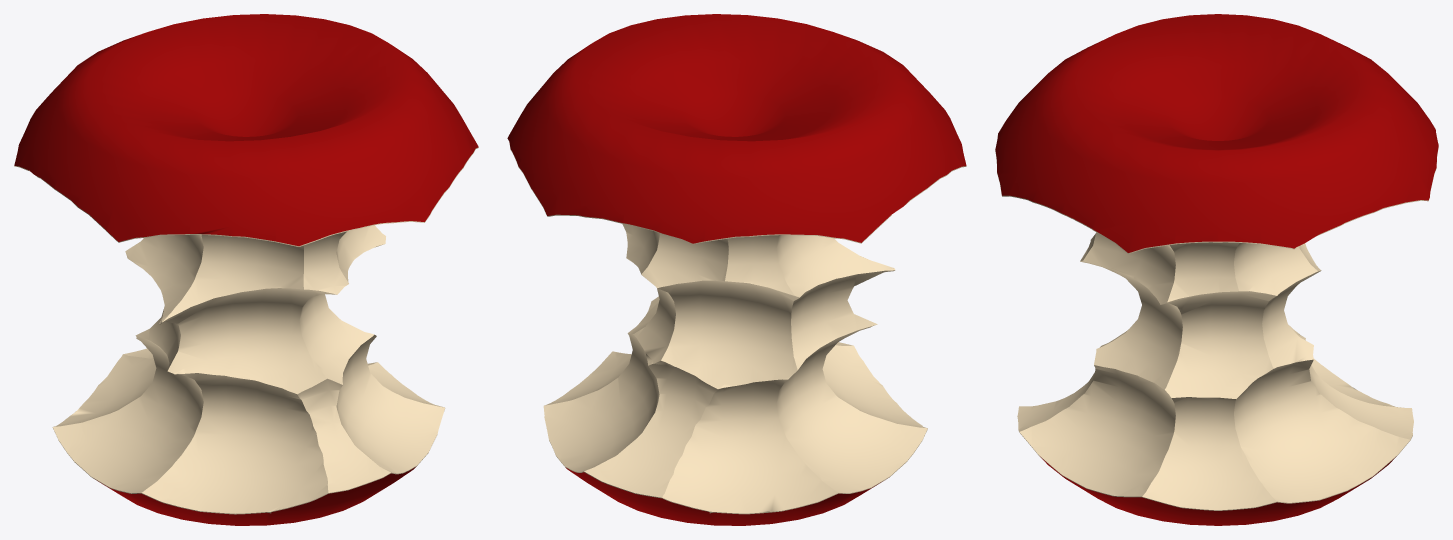
The model's file is apple.fbx.
3 renders of one model, left to right at view 1: azimuth 30°, elevation 25°; view 2: azimuth 150°, elevation 25°; view 3: azimuth 270°, elevation 25°, orthographic.
Parts seen in each view (by area): view 1: Sphere001, Object001; view 2: Sphere001, Object001; view 3: Sphere001, Object001.
Part boxes in pixels (x1=…): Sphere001: x1=14, y1=14, x2=478, y2=525; Object001: x1=14, y1=147, x2=478, y2=514; Sphere001: x1=507, y1=14, x2=966, y2=525; Object001: x1=509, y1=142, x2=966, y2=514; Sphere001: x1=995, y1=14, x2=1438, y2=525; Object001: x1=995, y1=135, x2=1438, y2=510.
Bounding box in the file's own units: 68.09 × 66.34 × 68.25.
